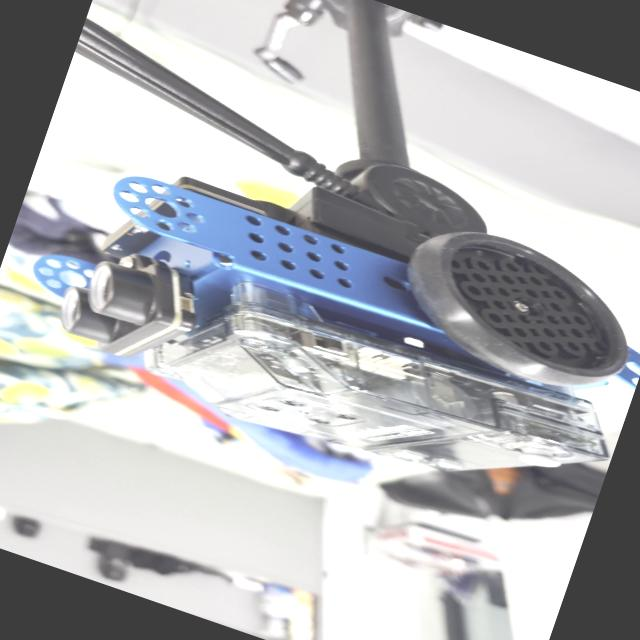mbot-detection: (0, 77, 640, 542)
